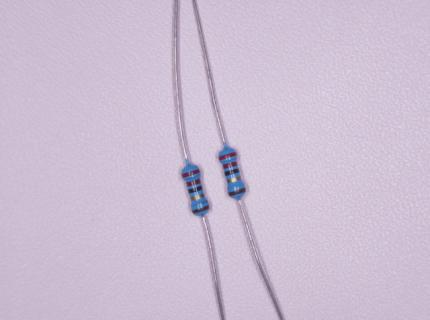Black band: (188, 185, 203, 194), (225, 168, 239, 176)
Brown band: (228, 187, 246, 197), (192, 205, 209, 214)
Gold band: (190, 193, 205, 201), (227, 176, 241, 184)
Red band: (181, 169, 200, 178), (218, 152, 237, 161), (186, 178, 201, 187), (222, 161, 238, 169)
